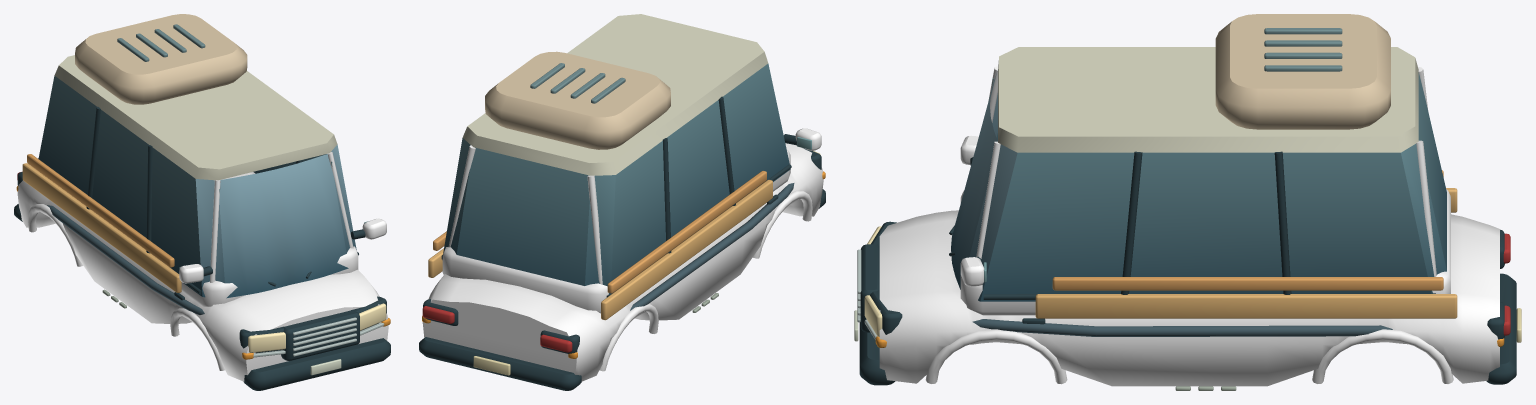
File: post.glb
3 renders of one model, left to right at view 1: azimuth 30°, elevation 25°; view 2: azimuth 150°, elevation 25°; view 3: azimuth 270°, elevation 25°, orthographic. The views are drawn at different scales.
Parts seen in each view (by area): view 1: Chassis, Headlamps; view 2: Chassis, BrakeLamps; view 3: Chassis, Headlamps.
Boxes of the visible parts, bbox=[...] form: Chassis: bbox=[14, 14, 390, 390]; Headlamps: bbox=[248, 303, 386, 352]; Chassis: bbox=[419, 14, 825, 390]; BrakeLamps: bbox=[422, 306, 572, 352]; Chassis: bbox=[854, 14, 1521, 390]; Headlamps: bbox=[864, 226, 882, 336].
Size of the model in its own units: 1.97 by 2 by 4.11.
